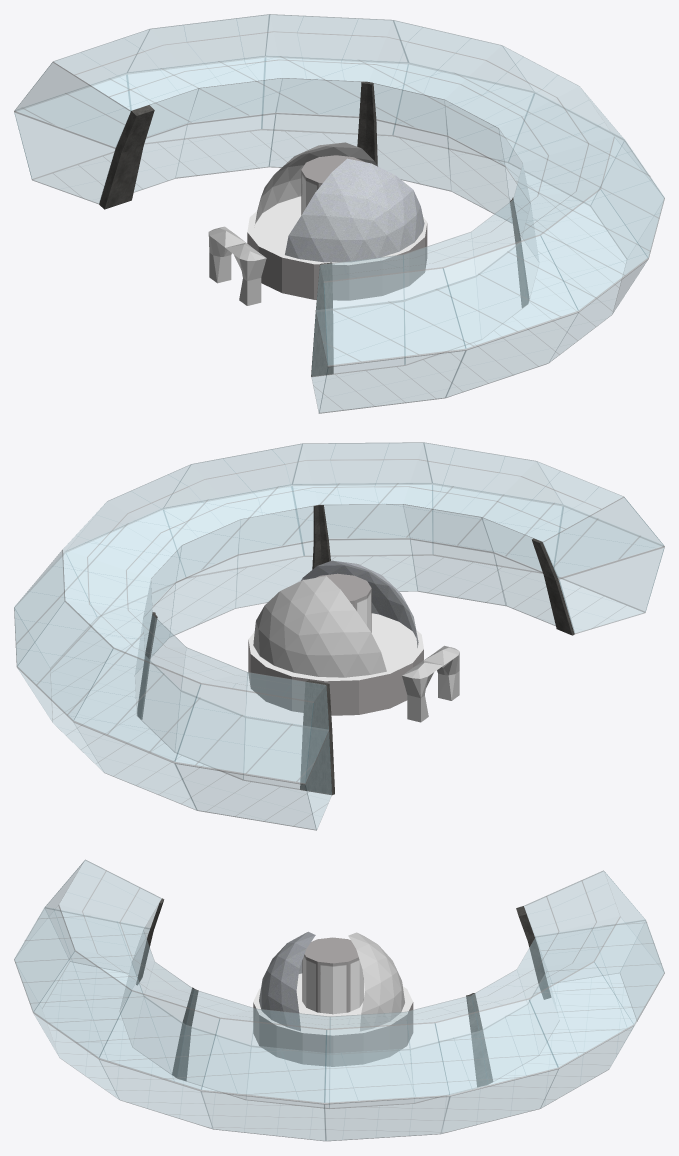
The model's file is museo.fbx.
3 renders of one model, top to bottom at view 1: azimuth 30°, elevation 25°; view 2: azimuth 150°, elevation 25°; view 3: azimuth 270°, elevation 25°, orthographic. The views are drawn at different scales.
Parts seen in each view (by area): view 1: Torus, Torus.001, Torus.003, Torus.002, Cube.003, Cylinder.001, Torus.004, Cube, Cube.001, Cylinder; view 2: Torus, Torus.001, Torus.003, Torus.002, Cube.001, Cylinder.001, Torus.004, Cube, Cube.003, Cylinder; view 3: Torus, Torus.001, Torus.003, Torus.002, Cylinder.001, Cylinder, Torus.004, Cube.001, Cube.003.
Part boxes in pixels (x1=…): Torus: x1=14, y1=14, x2=664, y2=413; Torus.001: x1=16, y1=56, x2=664, y2=364; Torus.003: x1=54, y1=14, x2=613, y2=280; Torus.002: x1=35, y1=131, x2=625, y2=412; Cube.003: x1=285, y1=158, x2=424, y2=262; Cylinder.001: x1=247, y1=196, x2=427, y2=300; Torus.004: x1=99, y1=81, x2=529, y2=376; Cube: x1=208, y1=226, x2=266, y2=305; Cube.001: x1=255, y1=142, x2=377, y2=223; Cylinder: x1=301, y1=155, x2=364, y2=214; Torus: x1=14, y1=442, x2=664, y2=830; Torus.001: x1=14, y1=483, x2=662, y2=782; Torus.003: x1=63, y1=442, x2=622, y2=700; Torus.002: x1=51, y1=556, x2=642, y2=829; Cube.001: x1=253, y1=576, x2=386, y2=677; Cylinder.001: x1=248, y1=613, x2=423, y2=715; Torus.004: x1=137, y1=505, x2=574, y2=795; Cube: x1=402, y1=645, x2=459, y2=722; Cube.003: x1=301, y1=560, x2=418, y2=647; Cylinder: x1=316, y1=573, x2=371, y2=632; Torus: x1=14, y1=859, x2=664, y2=1141; Torus.001: x1=14, y1=907, x2=664, y2=1102; Torus.003: x1=59, y1=860, x2=619, y2=1028; Torus.002: x1=44, y1=968, x2=635, y2=1140; Cylinder.001: x1=253, y1=973, x2=413, y2=1066; Cylinder: x1=302, y1=937, x2=363, y2=1014; Torus.004: x1=136, y1=898, x2=550, y2=1086; Cube.001: x1=348, y1=932, x2=404, y2=1031; Cube.003: x1=259, y1=931, x2=315, y2=1031.
Size of the model in its own units: 6514 by 1721 by 9140.
Materials: 6 (5 with a texture image).
